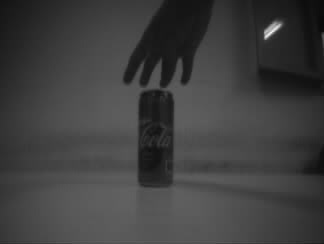Tin can: (137, 88, 174, 189)
